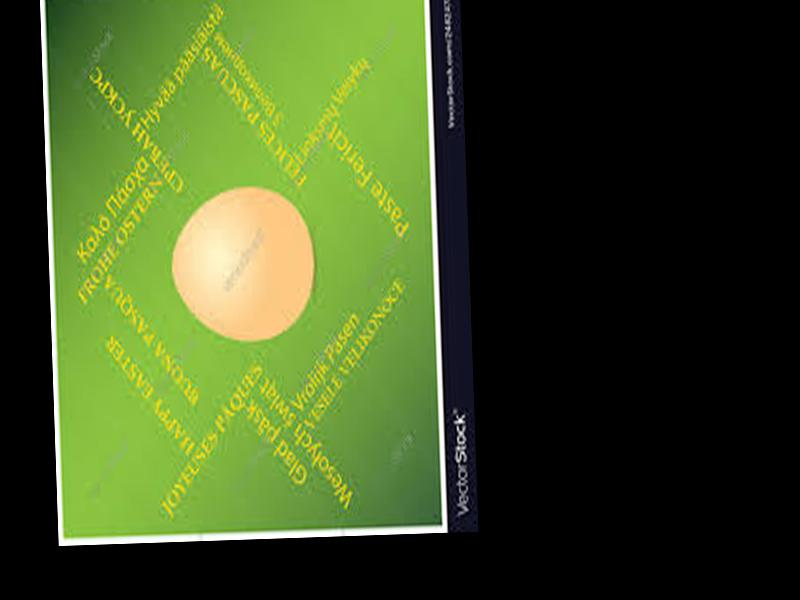Eggs: (173, 184, 315, 341)
